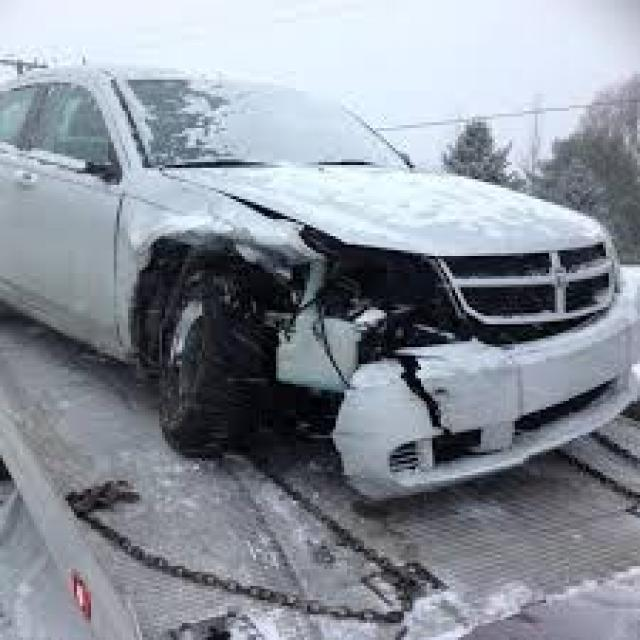severe: (107, 156, 530, 466)
